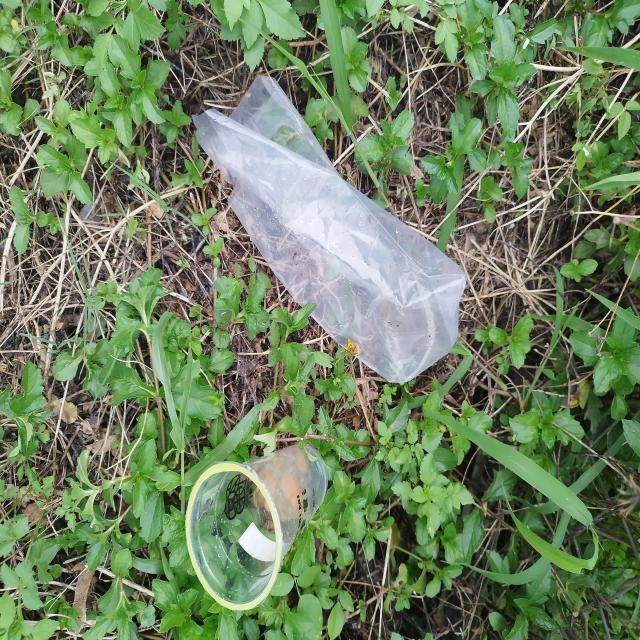bag: (195, 74, 467, 384)
plastic glass: (184, 437, 331, 610)
